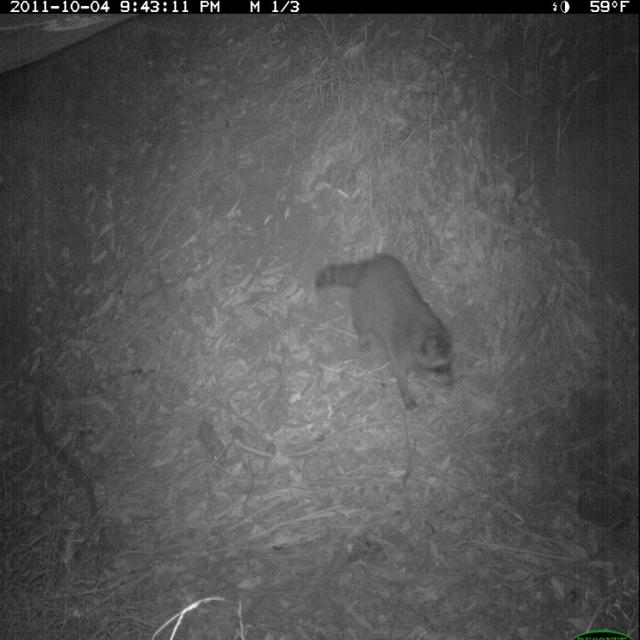raccoon: (311, 250, 467, 419)
